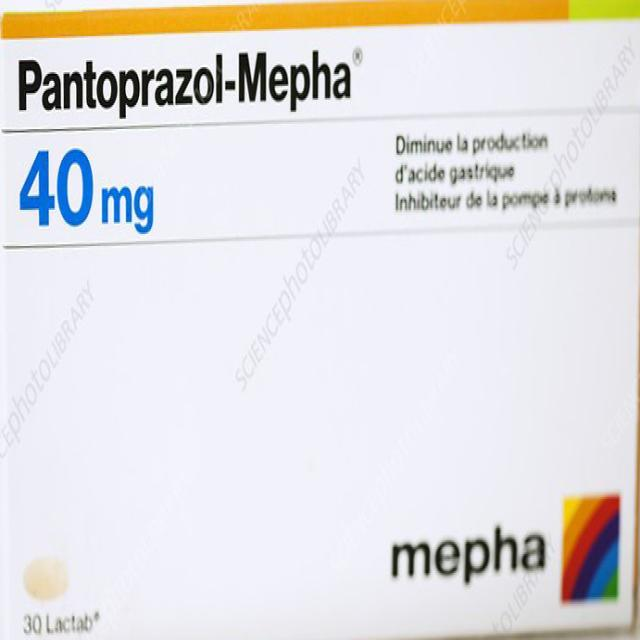drug-name: (15, 41, 364, 118)
